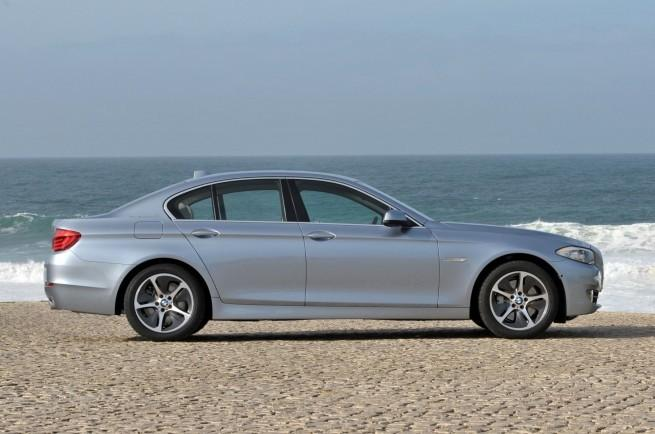Sedan: (43, 168, 604, 341)
